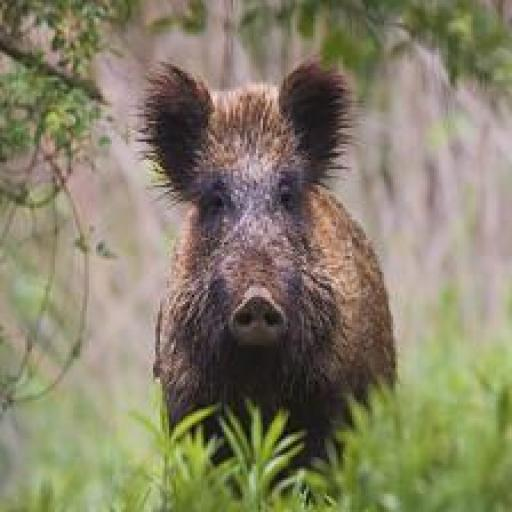Pig: (133, 55, 394, 500)
